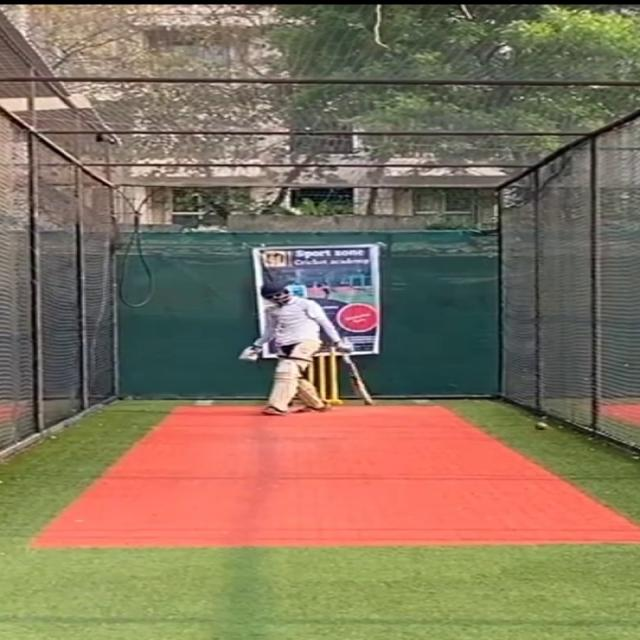stump: (303, 345, 342, 403)
